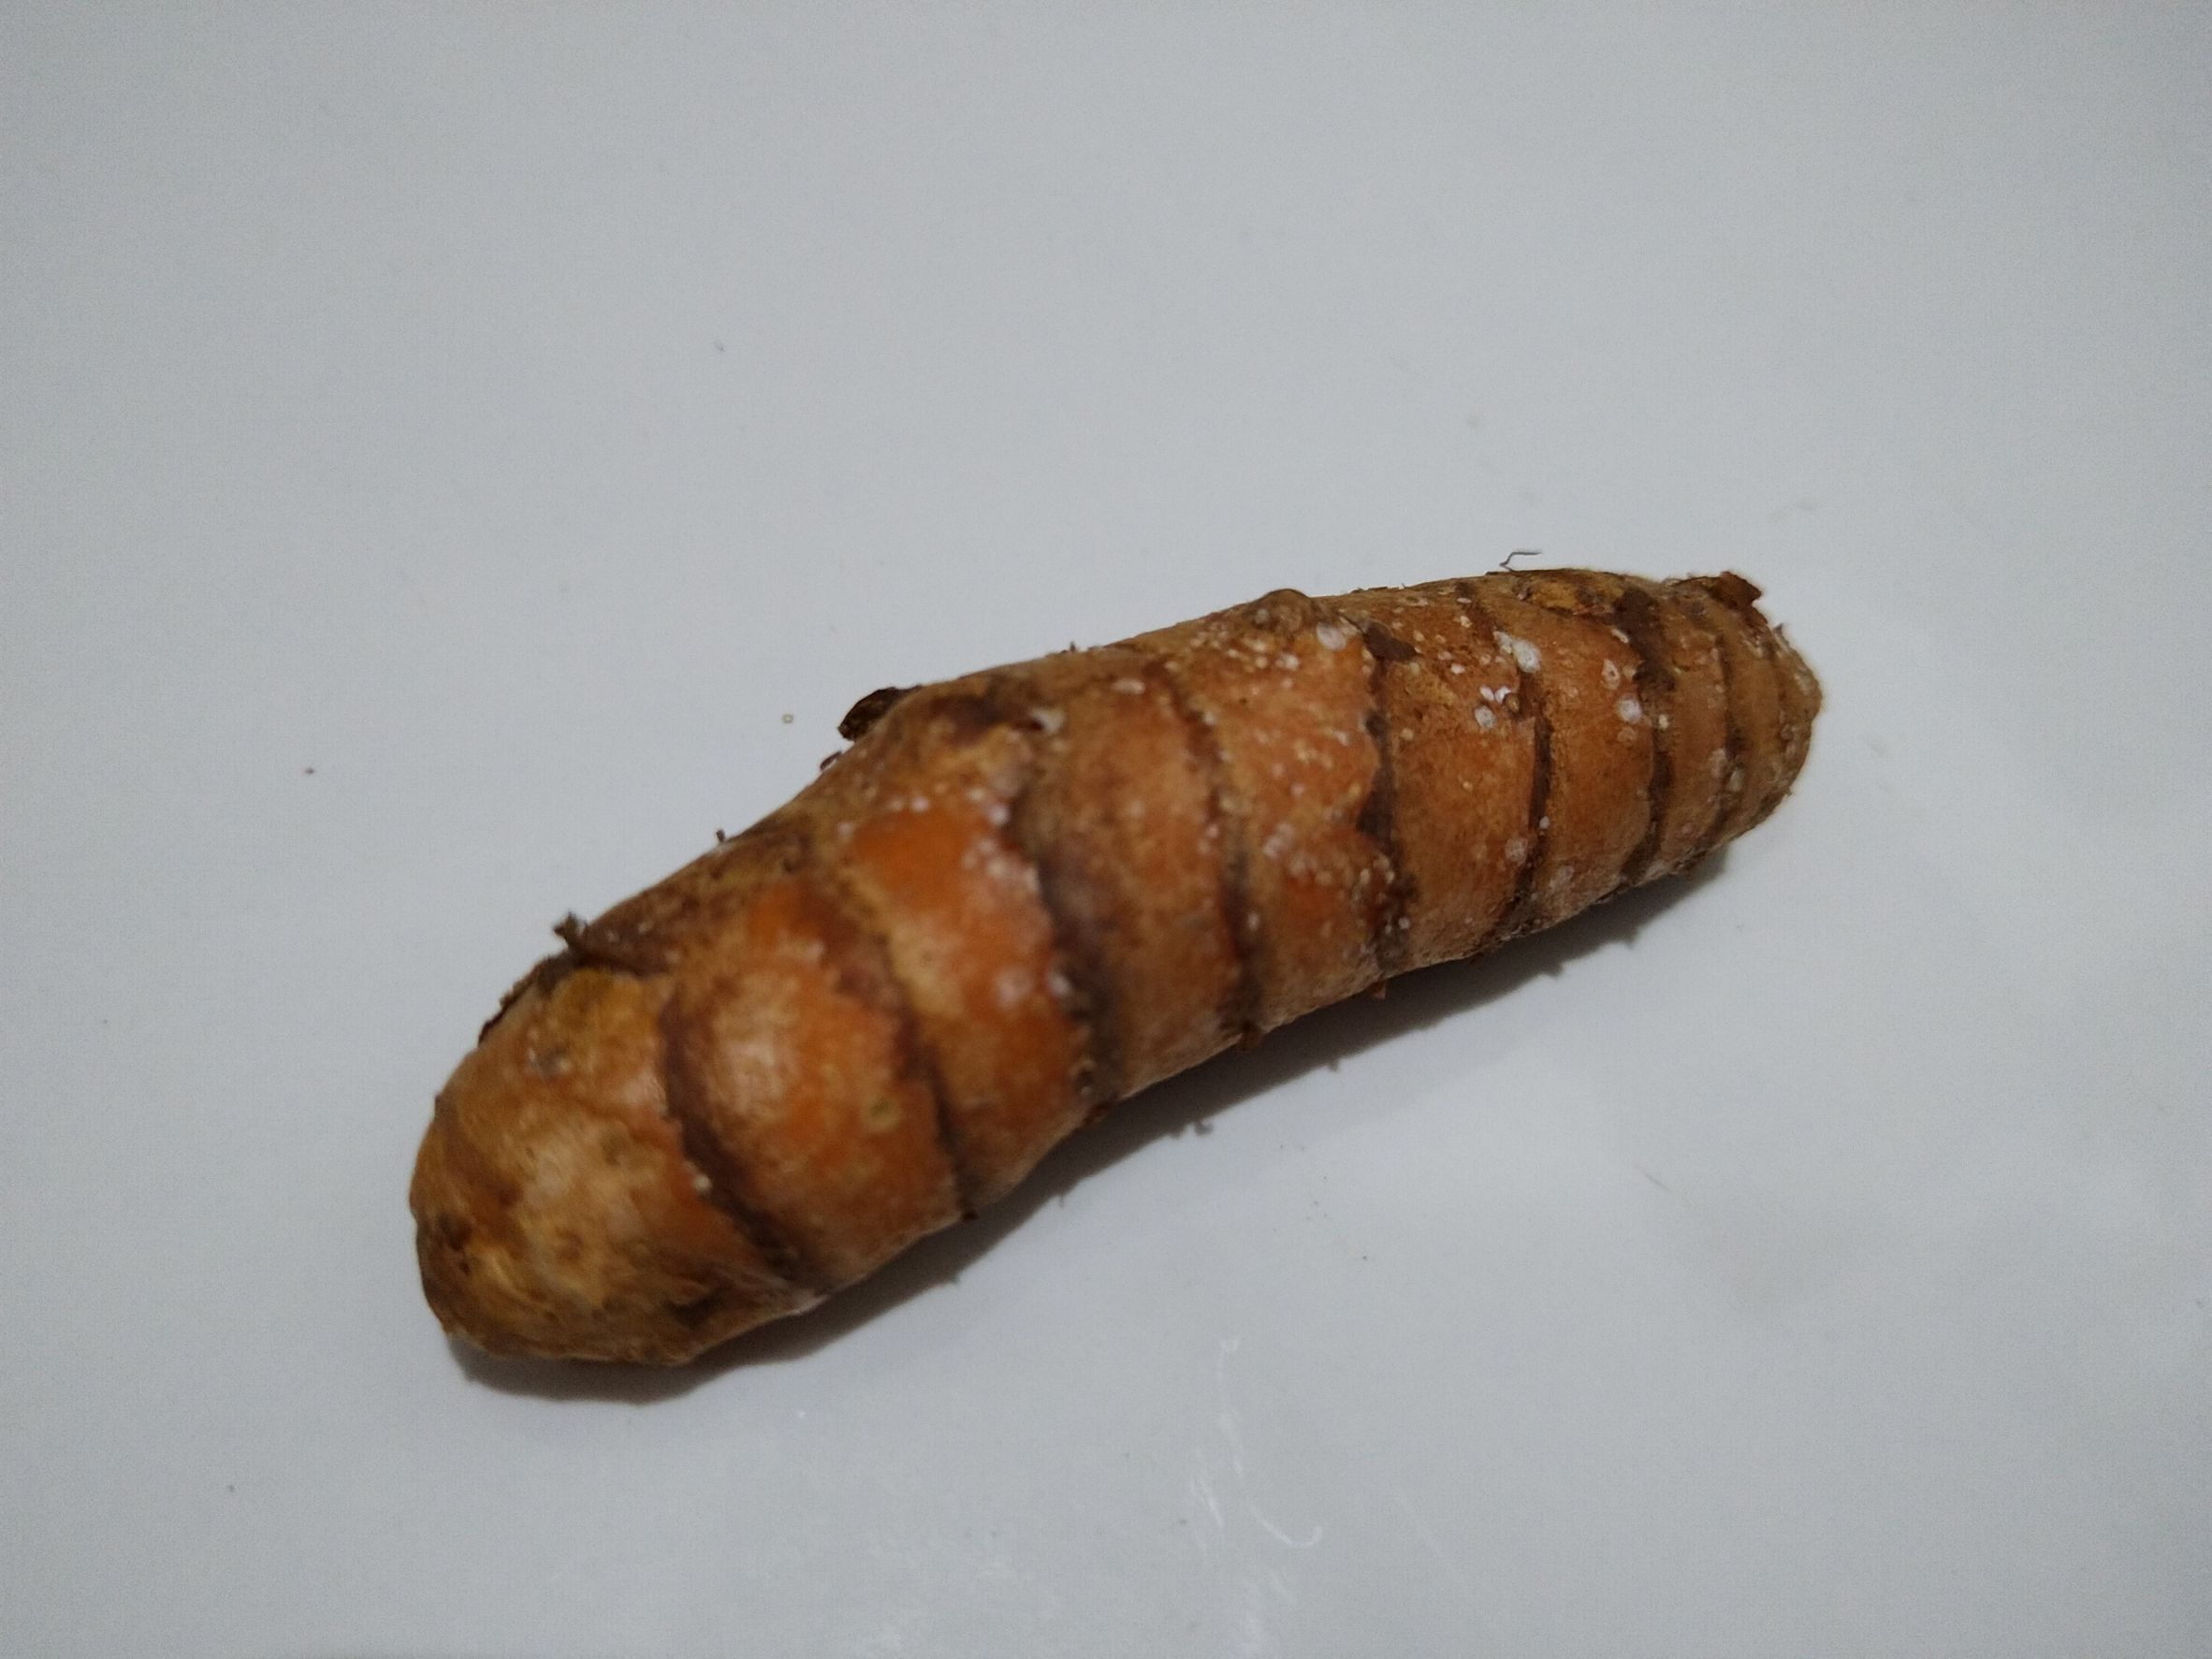Kunyit: (432, 566, 1818, 1415)
